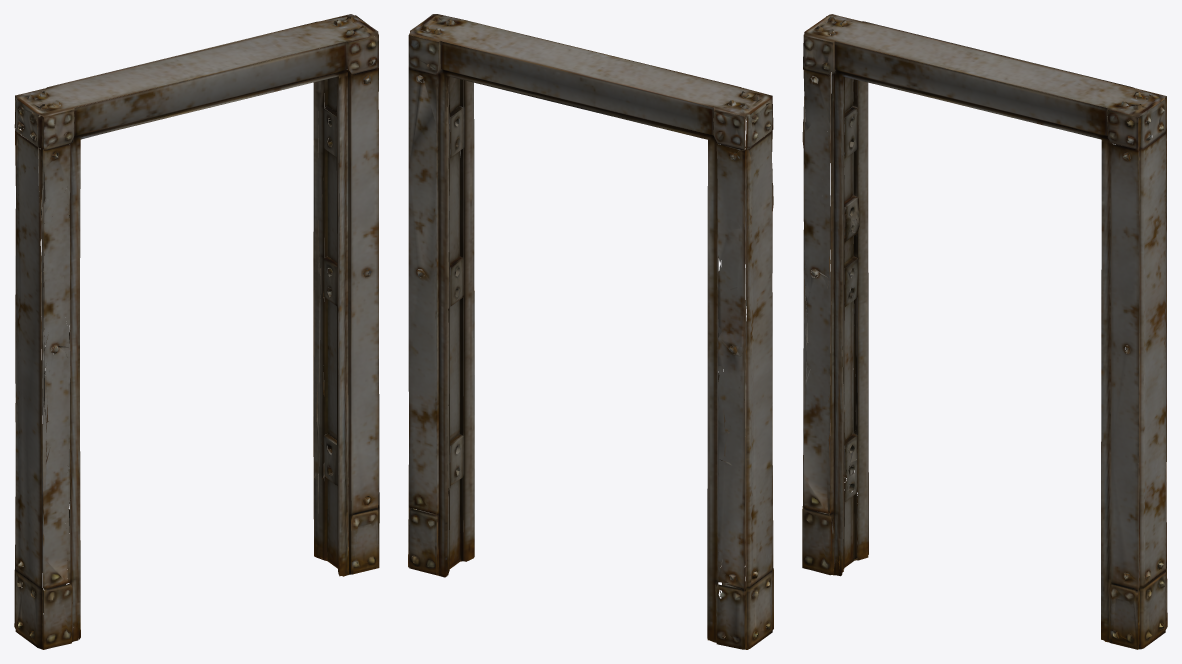
The model's file is doorframe.glb.
The picture shows the model from 3 angles, left to right: view 1: azimuth 30°, elevation 25°; view 2: azimuth 150°, elevation 25°; view 3: azimuth 330°, elevation 25°; orthographic projection.
Parts seen in each view (by area): view 1: node_0; view 2: node_0; view 3: node_0.
Part boxes in pixels (x1,y1,x2,y2): node_0: (14, 14, 379, 649); node_0: (408, 14, 773, 649); node_0: (802, 14, 1167, 649).
Bounding box in the file's own units: 0.6793 × 1.01 × 0.1143.
Materials: 1 (1 with a texture image).
